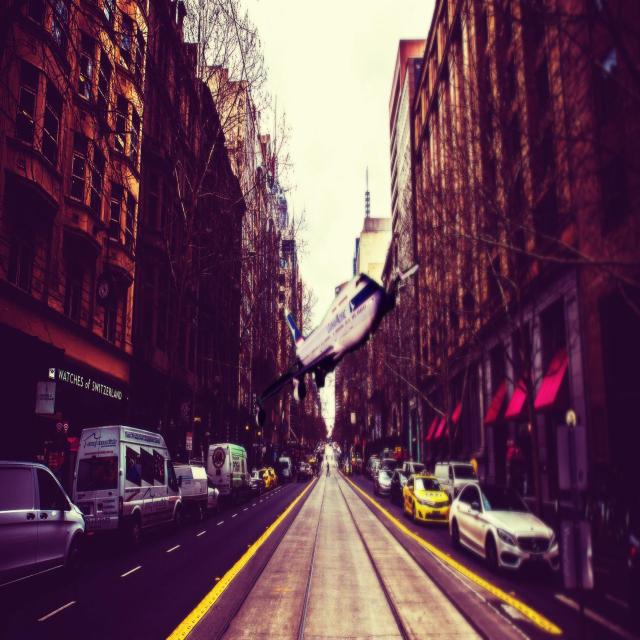airplane: (253, 261, 420, 426)
